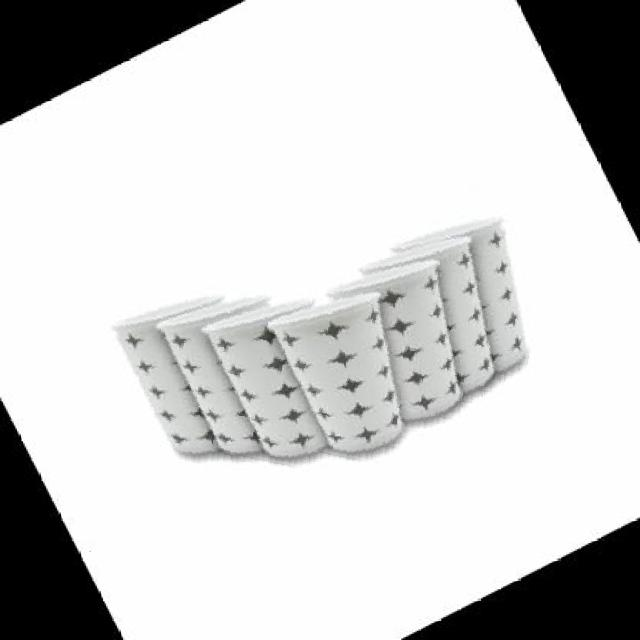non-biodegradable: (79, 121, 569, 552)
